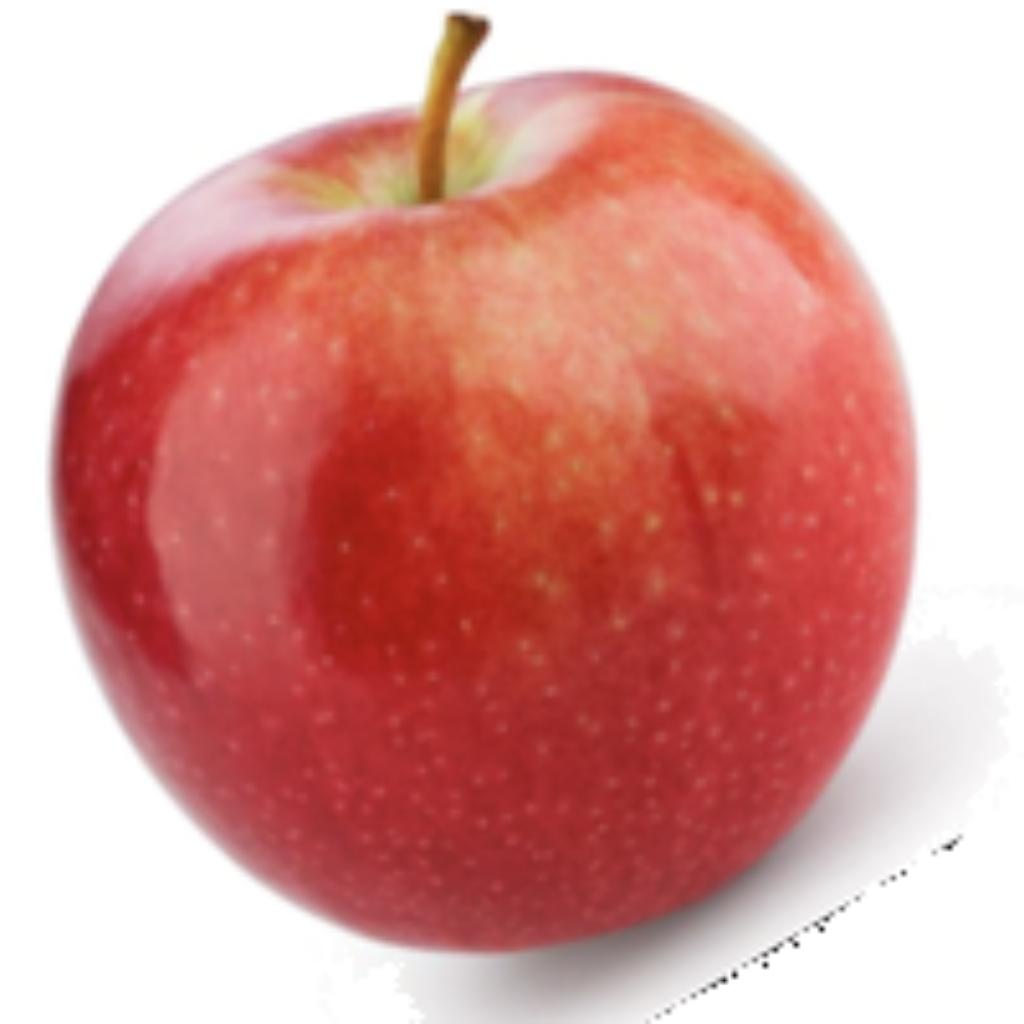apple: (41, 5, 1009, 1019)
